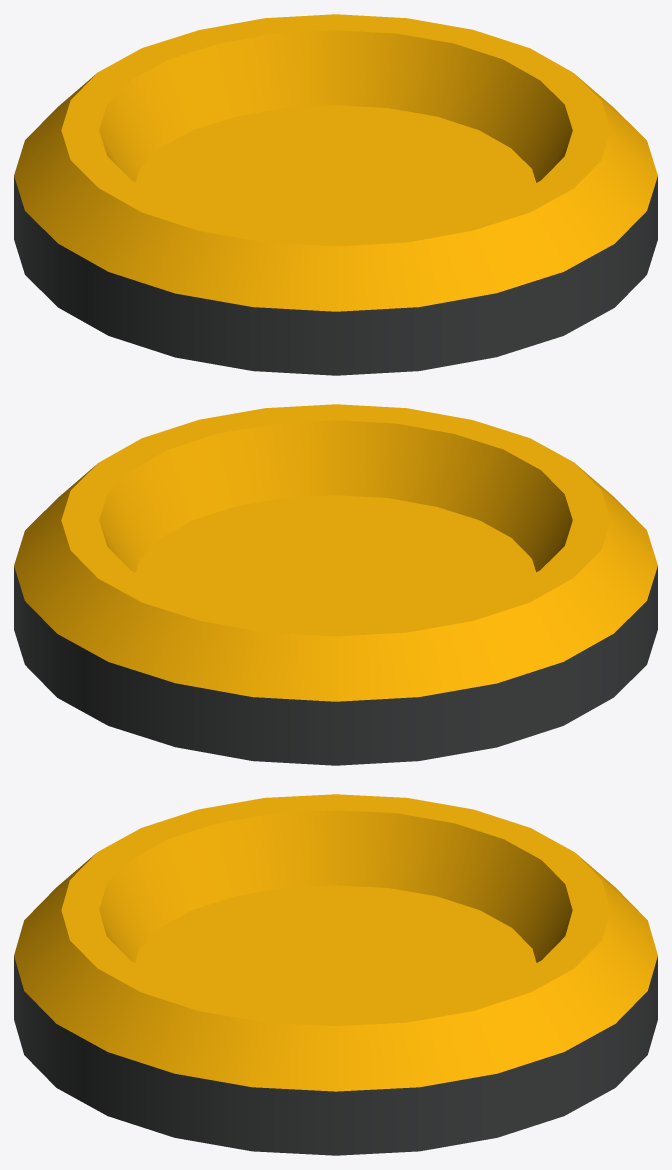
The model's file is Armchair_014.fbx.
3 views of the same model, one above another, from view 1: azimuth 30°, elevation 25°; view 2: azimuth 150°, elevation 25°; view 3: azimuth 270°, elevation 25° (orthographic).
Visible parts, largest first — view 1: Armchair_014; view 2: Armchair_014; view 3: Armchair_014.
Boxes of the visible parts, x1,y1,x2,y2 form: Armchair_014: (14,14,657,375); Armchair_014: (14,404,657,765); Armchair_014: (14,794,657,1155).
Size of the model in its own units: 58.34 by 58.38 by 10.95.
